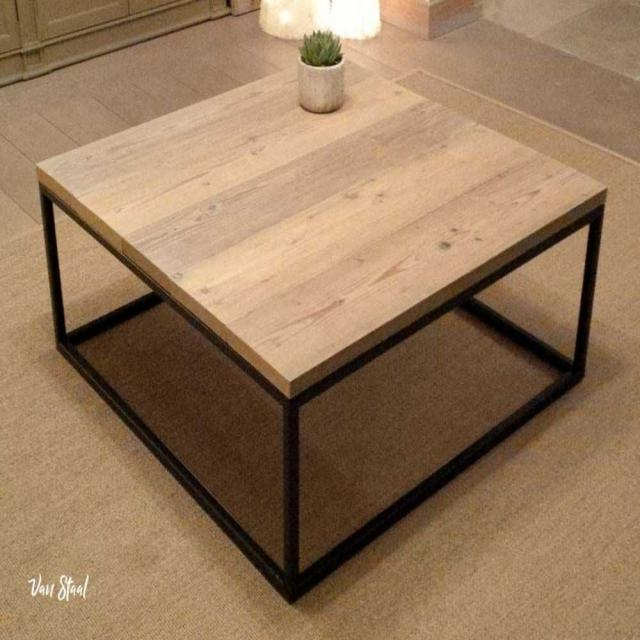table: (29, 18, 621, 616)
